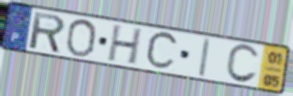C: (143, 30, 181, 73), (223, 43, 261, 85)
H: (105, 24, 145, 67)
I: (197, 37, 212, 79)
O: (64, 19, 99, 59)
R: (29, 10, 67, 55)
